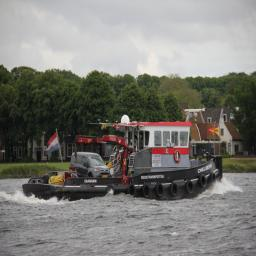tugboat: (22, 105, 229, 213)
